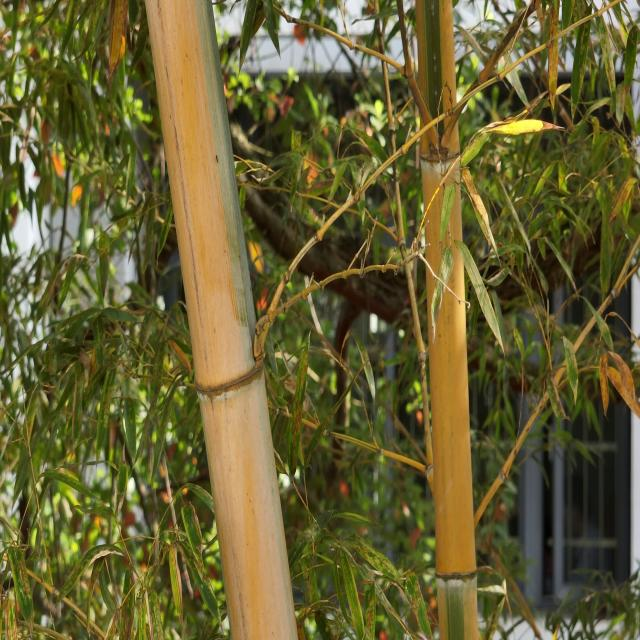Bamboo-shoots: (144, 0, 299, 640), (416, 0, 479, 640)
